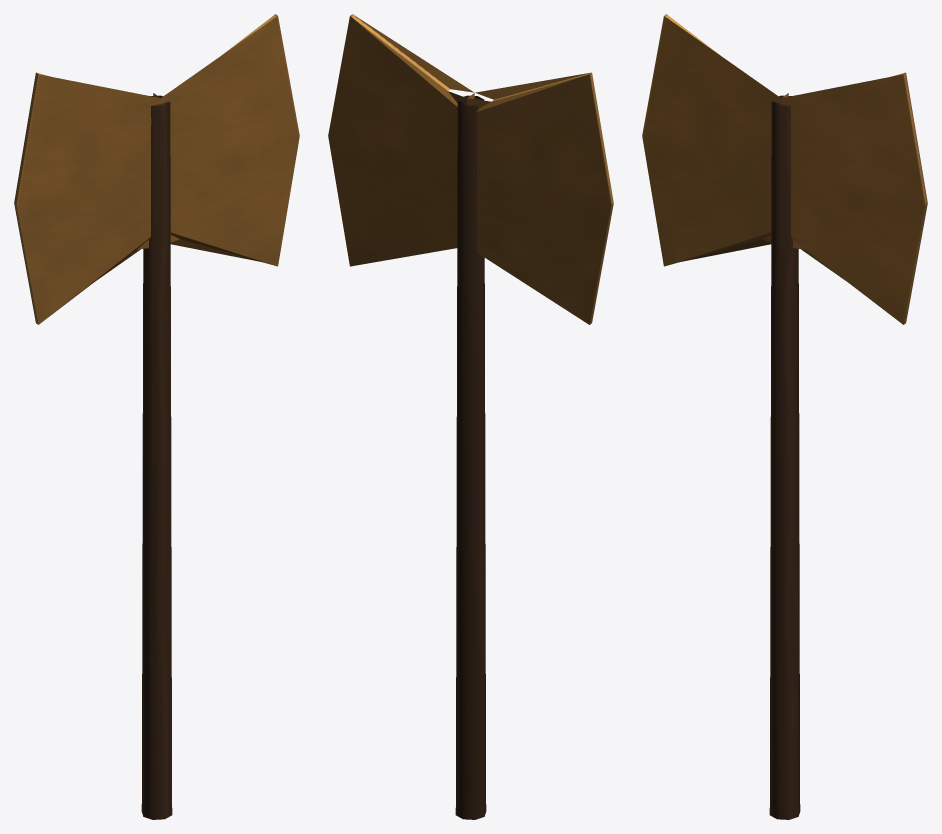
Rendered from hache-double.glb.
The picture shows the model from 3 angles, left to right: view 1: azimuth 30°, elevation 25°; view 2: azimuth 150°, elevation 25°; view 3: azimuth 330°, elevation 25°; orthographic projection.
Parts seen in each view (by area): view 1: hache-double; view 2: hache-double; view 3: hache-double.
Boxes of the visible parts, bbox=[...] form: hache-double: bbox=[14, 14, 299, 819]; hache-double: bbox=[328, 14, 613, 819]; hache-double: bbox=[642, 14, 927, 819].
Bounding box in the file's own units: 0.52 × 1.35 × 0.05.
Materials: 1 (1 with a texture image).
